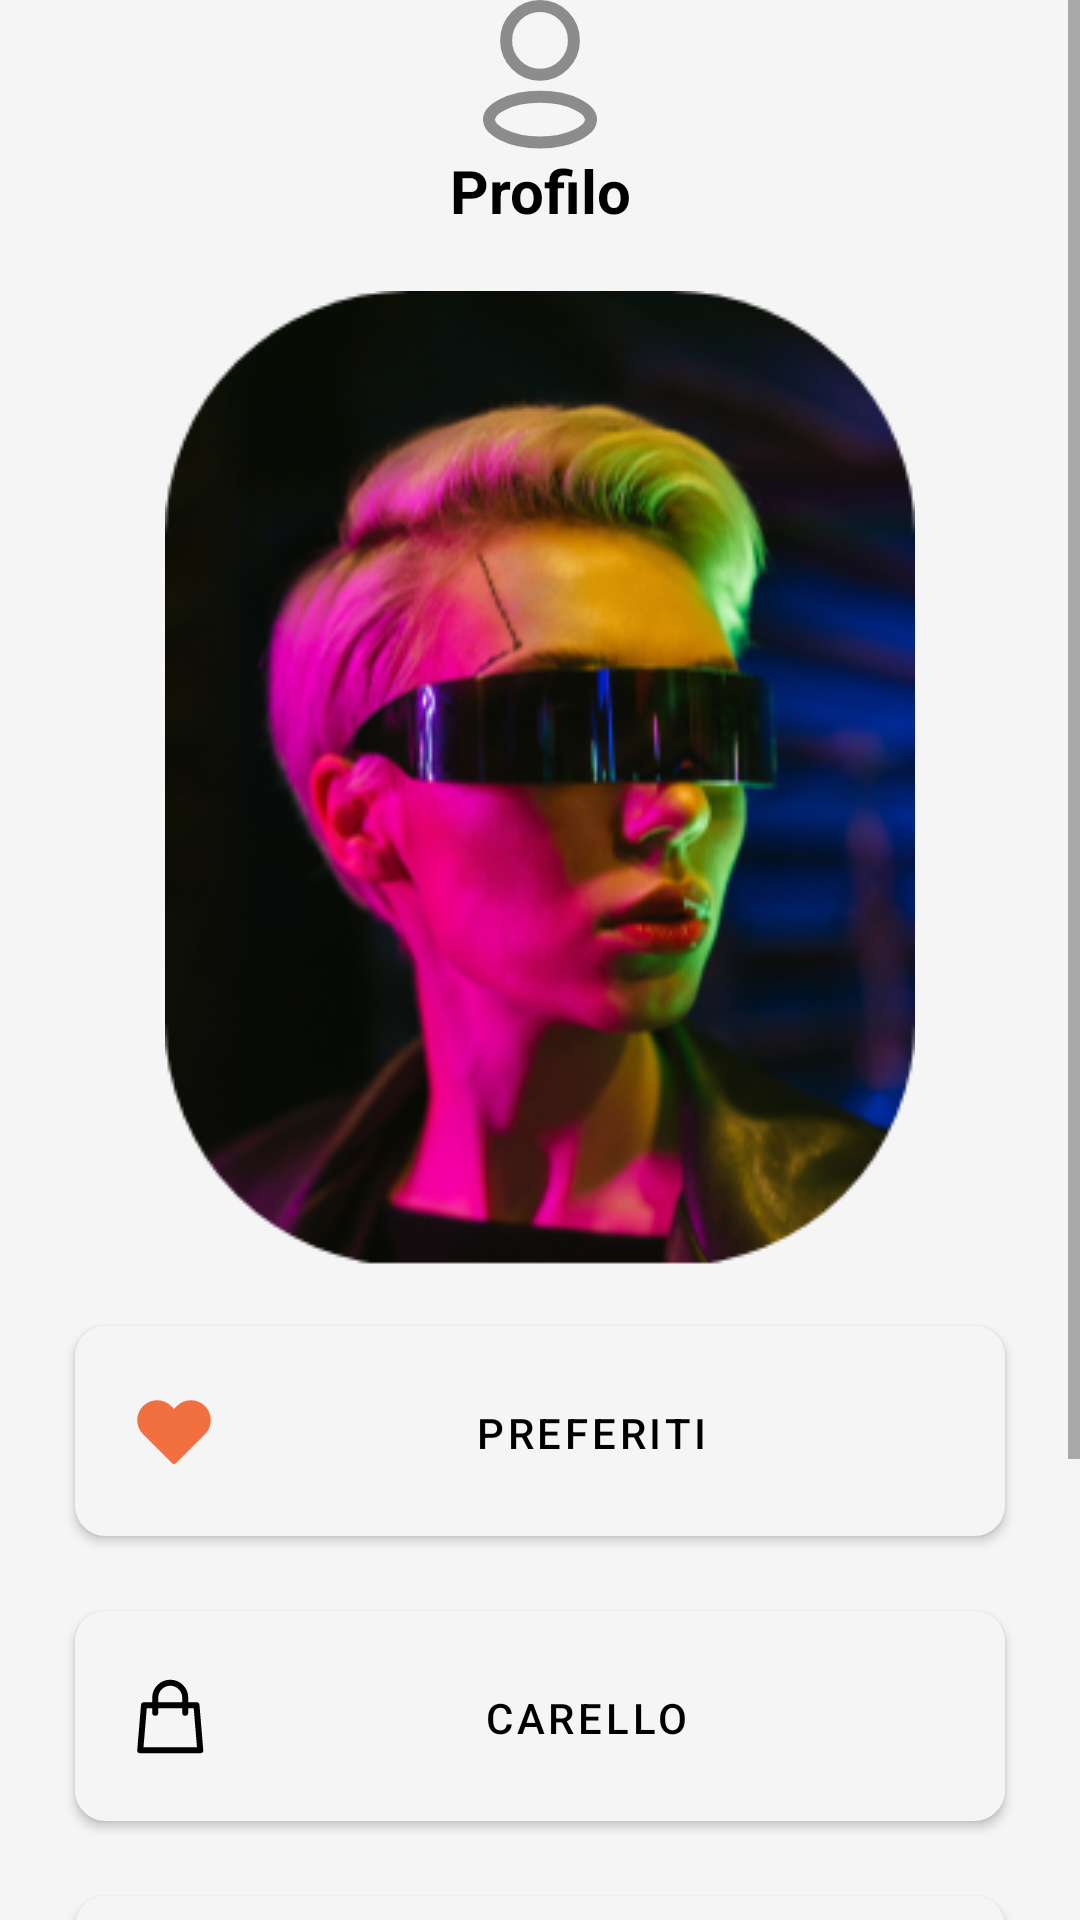

Screen size 1080w x 1920h. Icon name, then its center in pixels as (x=x, y=y):
user: (x=540, y=74)
